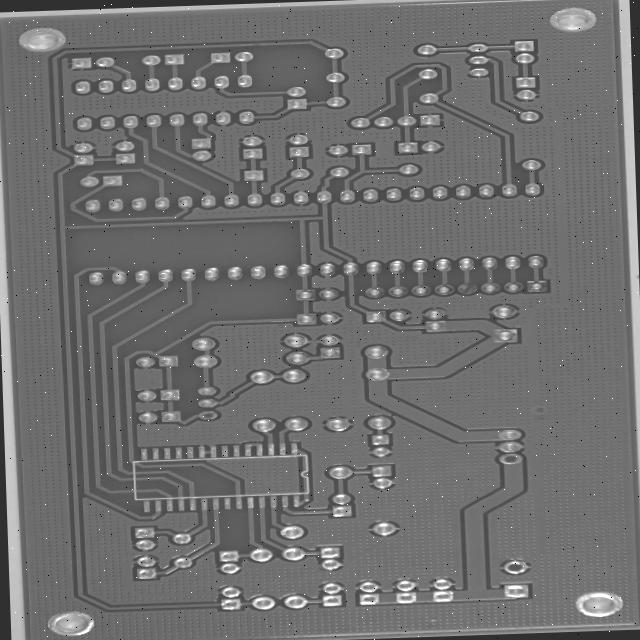missing_hole: (473, 556, 512, 574), (423, 267, 455, 283), (473, 444, 506, 459), (123, 402, 150, 413)
